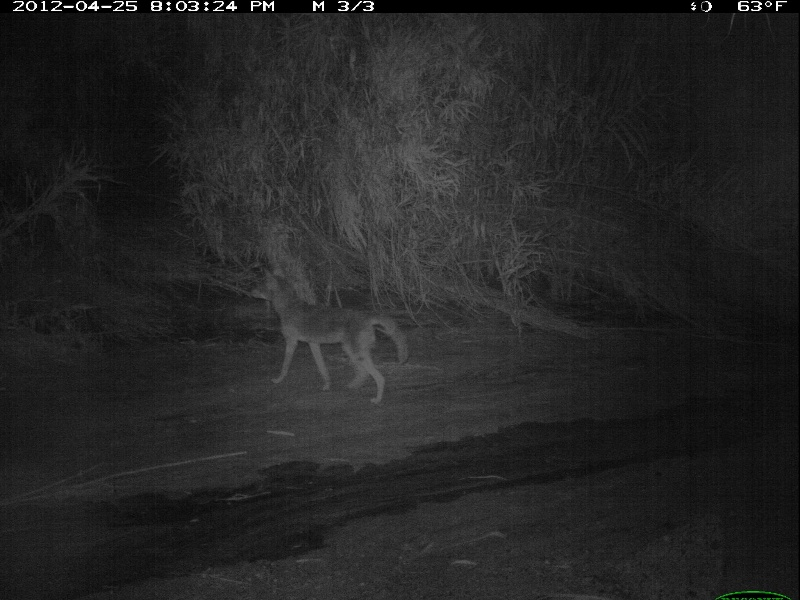coyote: (261, 273, 409, 407)
